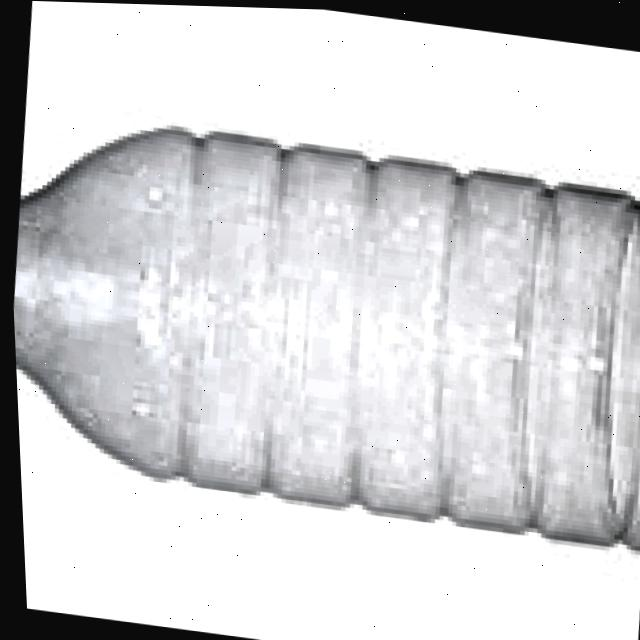plastic: (0, 0, 640, 627)
